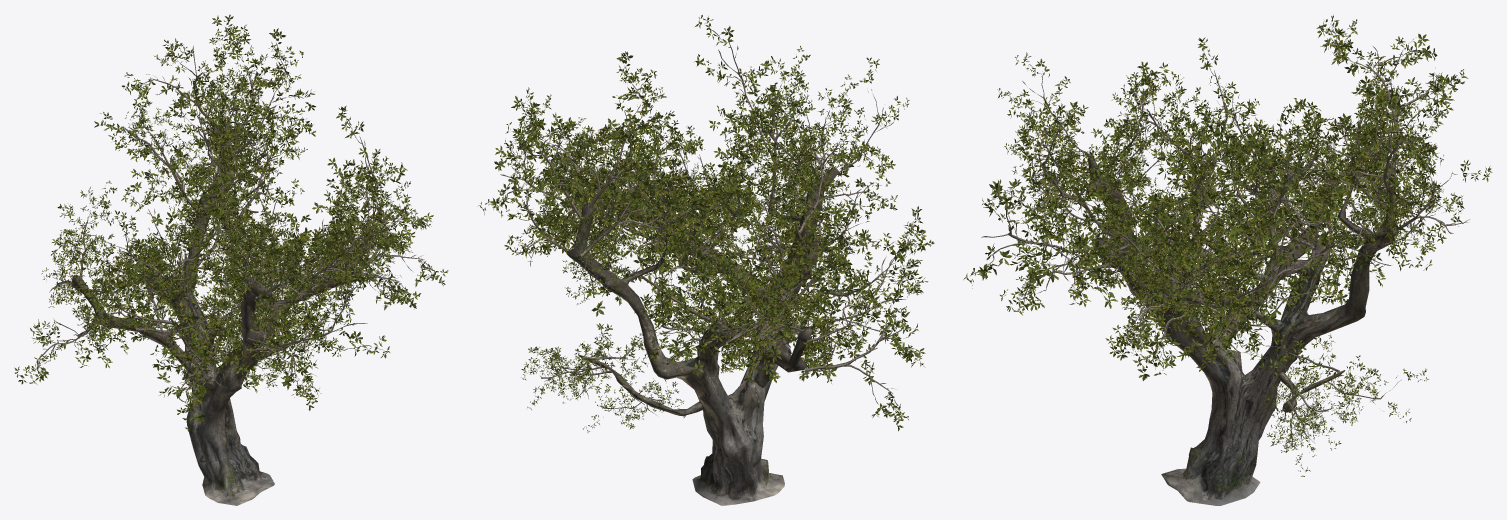
The model's file is tree-refined-small.glb.
The picture shows the model from 3 angles, left to right: view 1: azimuth 30°, elevation 25°; view 2: azimuth 150°, elevation 25°; view 3: azimuth 270°, elevation 25°; orthographic projection. The views are drawn at different scales.
Visible parts, largest first — view 1: island_tree_01_LOD0; view 2: island_tree_01_LOD0; view 3: island_tree_01_LOD0.
Part boxes in pixels (<box>): island_tree_01_LOD0: <box>14,14,448,505</box>; island_tree_01_LOD0: <box>478,15,934,505</box>; island_tree_01_LOD0: <box>963,15,1492,505</box>.
Bounding box in the file's own units: 4.76 × 5.02 × 4.82.
3 materials, 3 textured.
